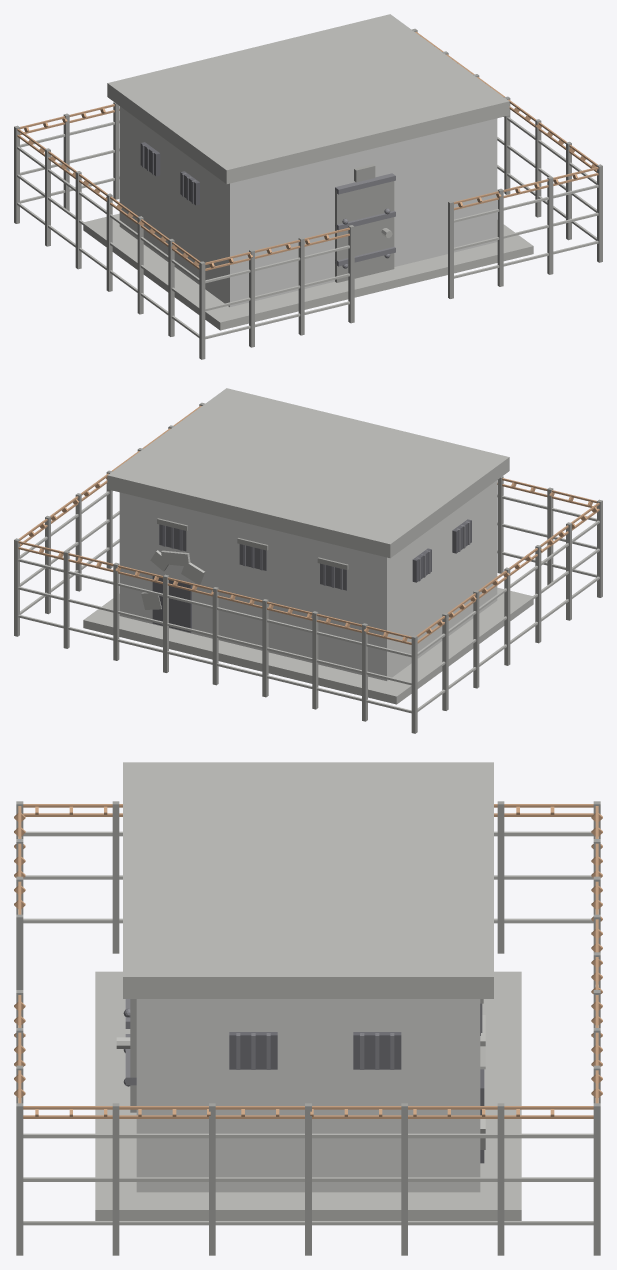
The model's file is vezeni.glb.
3 renders of one model, top to bottom at view 1: azimuth 30°, elevation 25°; view 2: azimuth 150°, elevation 25°; view 3: azimuth 270°, elevation 25°, orthographic. The views are drawn at different scales.
Visible parts, largest first — view 1: Vezeni_grey3, Vezeni_grey, Vezeni_grey4, Vezeni_rust, Vezeni_dark, Vezeni_black; view 2: Vezeni_grey3, Vezeni_grey, Vezeni_grey4, Vezeni_rust, Vezeni_black, Vezeni_dark; view 3: Vezeni_grey3, Vezeni_grey, Vezeni_grey4, Vezeni_rust, Vezeni_black, Vezeni_dark.
Part boxes in pixels (x1=…): Vezeni_grey3: x1=17, y1=14, x2=598, y2=339; Vezeni_grey: x1=119, y1=106, x2=497, y2=306; Vezeni_grey4: x1=14, y1=28, x2=602, y2=359; Vezeni_rust: x1=17, y1=31, x2=598, y2=270; Vezeni_dark: x1=142, y1=144, x2=395, y2=268; Vezeni_black: x1=140, y1=142, x2=199, y2=205; Vezeni_grey3: x1=18, y1=388, x2=599, y2=713; Vezeni_grey: x1=119, y1=480, x2=497, y2=680; Vezeni_grey4: x1=14, y1=402, x2=602, y2=733; Vezeni_rust: x1=18, y1=405, x2=599, y2=644; Vezeni_black: x1=152, y1=519, x2=471, y2=632; Vezeni_dark: x1=162, y1=521, x2=470, y2=589; Vezeni_grey3: x1=18, y1=762, x2=598, y2=1225; Vezeni_grey: x1=136, y1=999, x2=480, y2=1192; Vezeni_grey4: x1=16, y1=801, x2=600, y2=1255; Vezeni_rust: x1=14, y1=804, x2=602, y2=1118; Vezeni_black: x1=229, y1=1003, x2=484, y2=1163; Vezeni_dark: x1=123, y1=999, x2=482, y2=1086.
Size of the model in its own units: 10.57 by 3.75 by 8.57.
